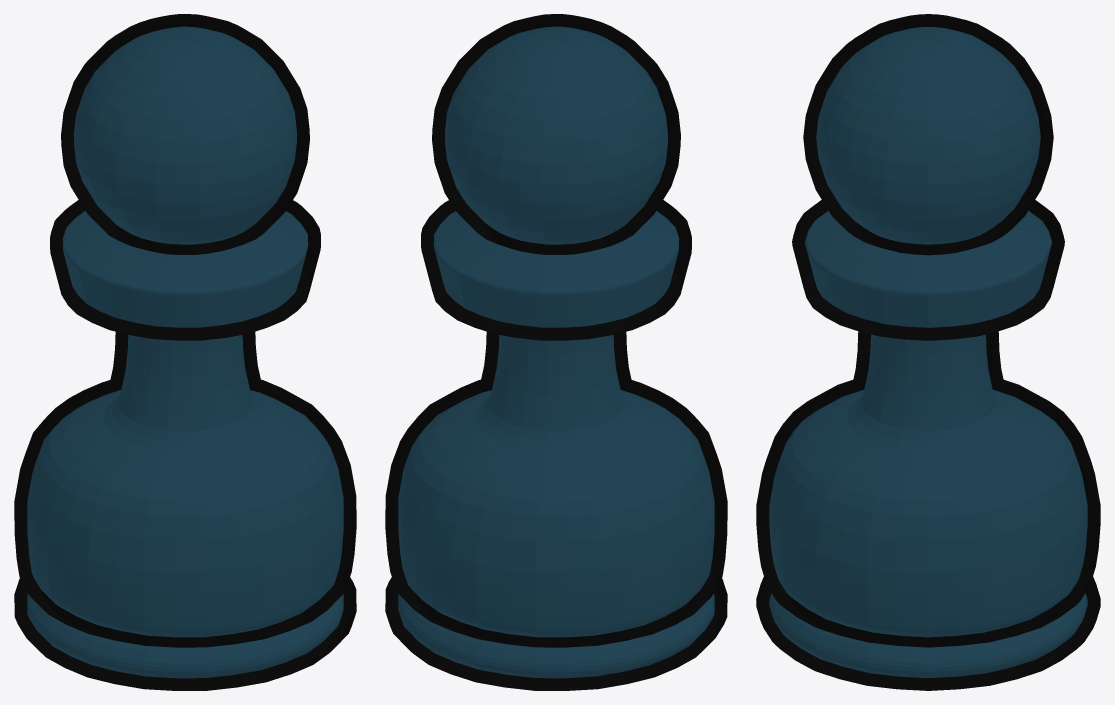
File: cizgi_p_b.glb
3 views of the same model, side by side, from view 1: azimuth 30°, elevation 25°; view 2: azimuth 150°, elevation 25°; view 3: azimuth 270°, elevation 25° (orthographic).
Parts seen in each view (by area): view 1: Body, Outline; view 2: Body, Outline; view 3: Body, Outline.
Part boxes in pixels (x1=…): Body: x1=27, y1=26, x2=343, y2=678; Outline: x1=14, y1=14, x2=356, y2=690; Body: x1=398, y1=26, x2=714, y2=678; Outline: x1=385, y1=14, x2=727, y2=690; Body: x1=769, y1=26, x2=1087, y2=678; Outline: x1=756, y1=14, x2=1100, y2=690.
Size of the model in its own units: 0.027 by 0.0519 by 0.027.
